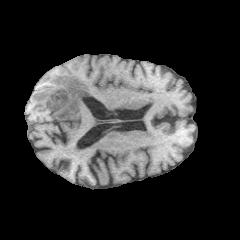glioma: (28, 73, 92, 120)
